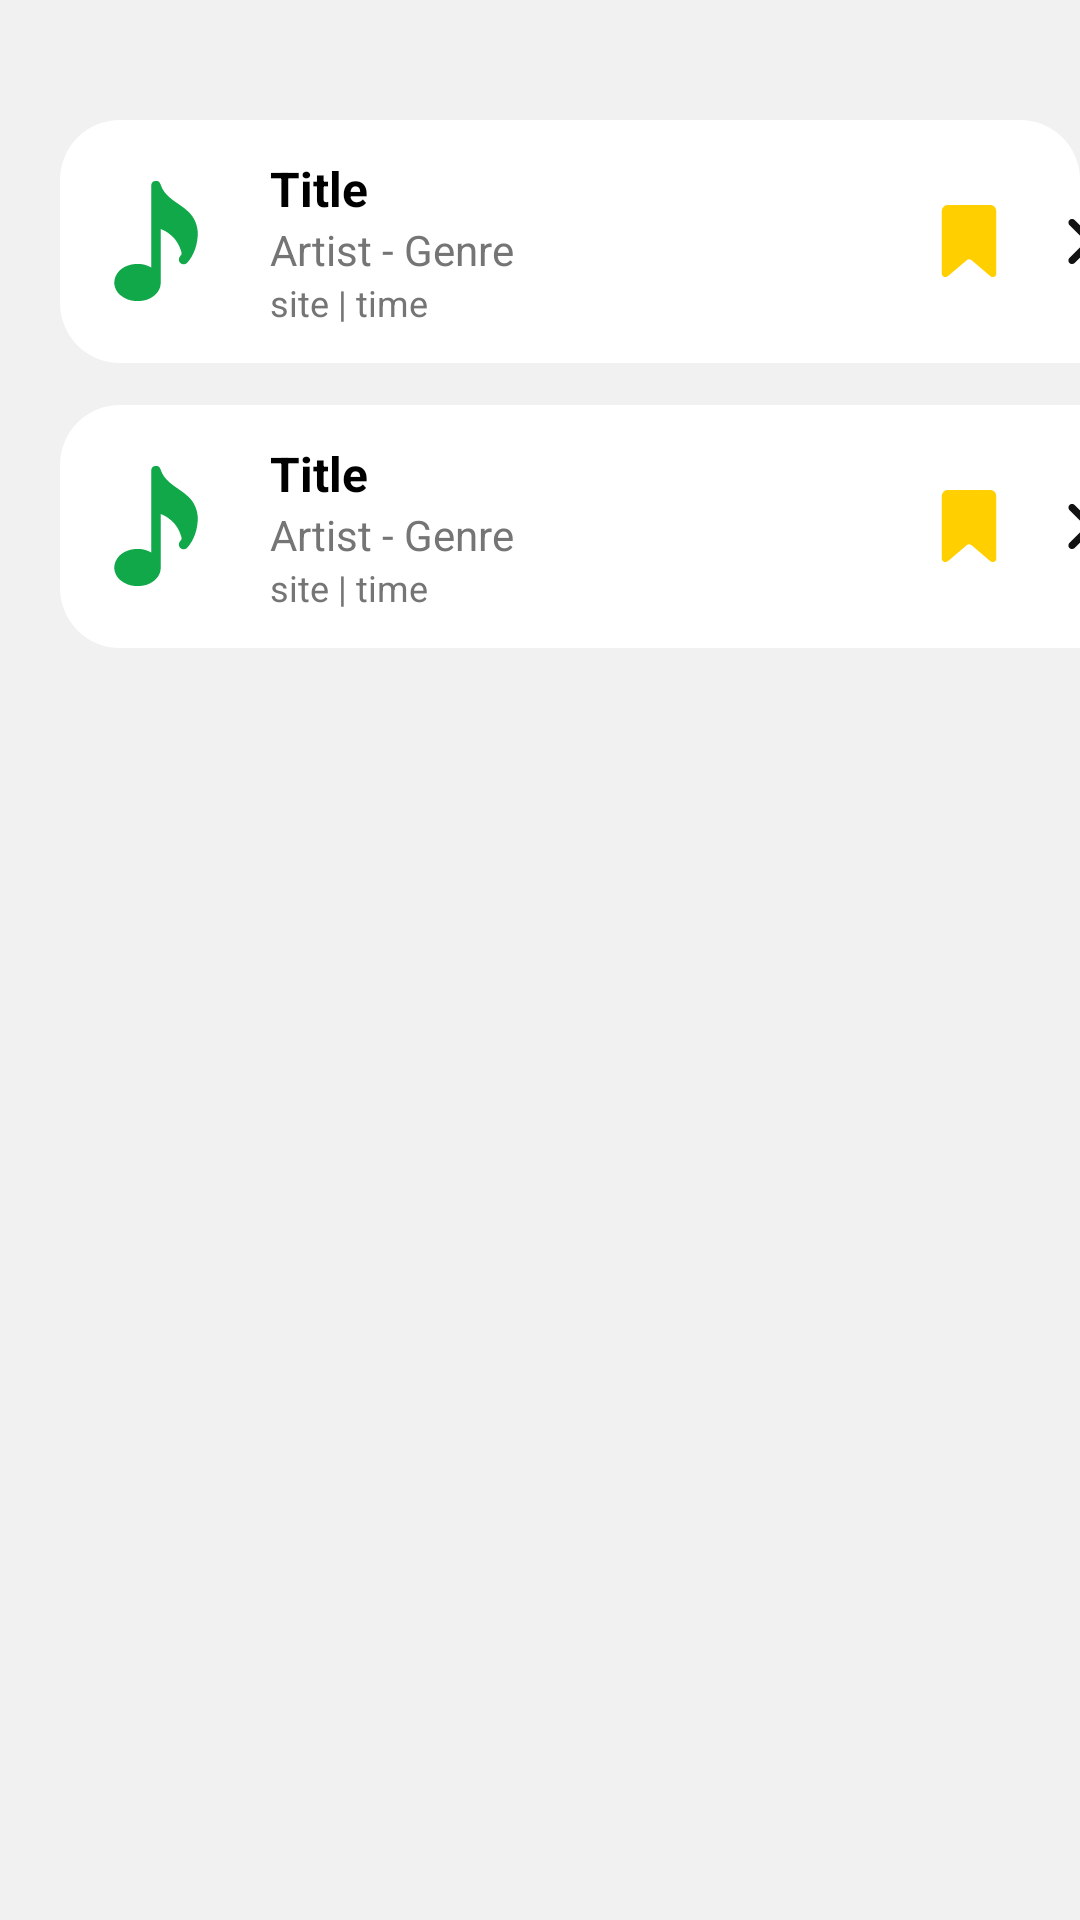

Locate icon controls on the screen. Image size 1080*1920, boxes as (x1, y1, x2, y2).
Bookmark: (941, 205, 997, 277), (941, 490, 997, 562)
Music note: (114, 181, 198, 301), (114, 466, 198, 586)
